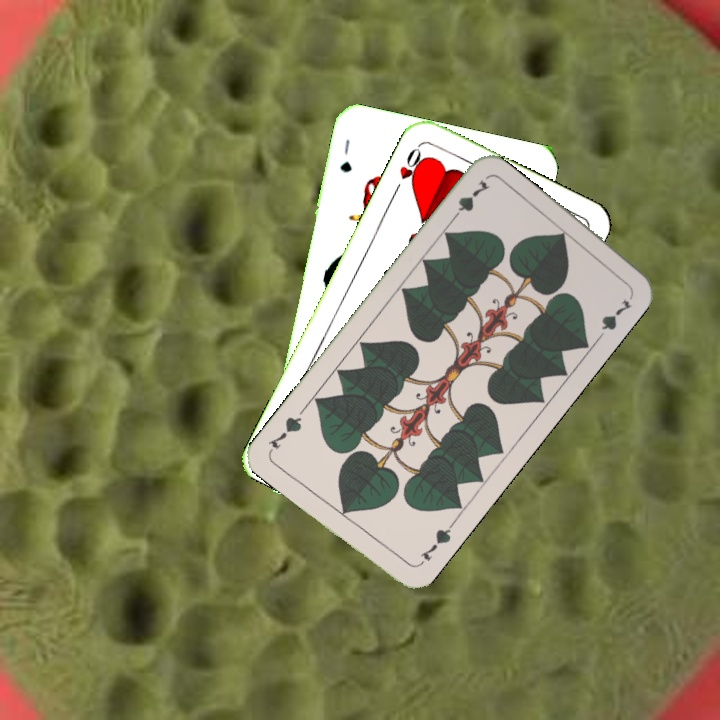G7: (446, 175, 493, 225), (413, 520, 456, 569)
GU: (335, 135, 355, 175)
HO: (390, 141, 429, 196)
